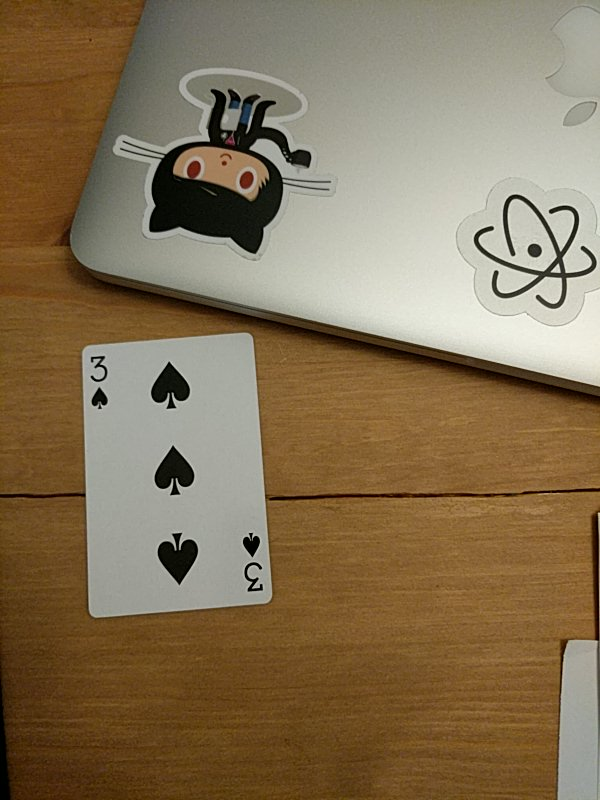Spades: (81, 330, 277, 618)
